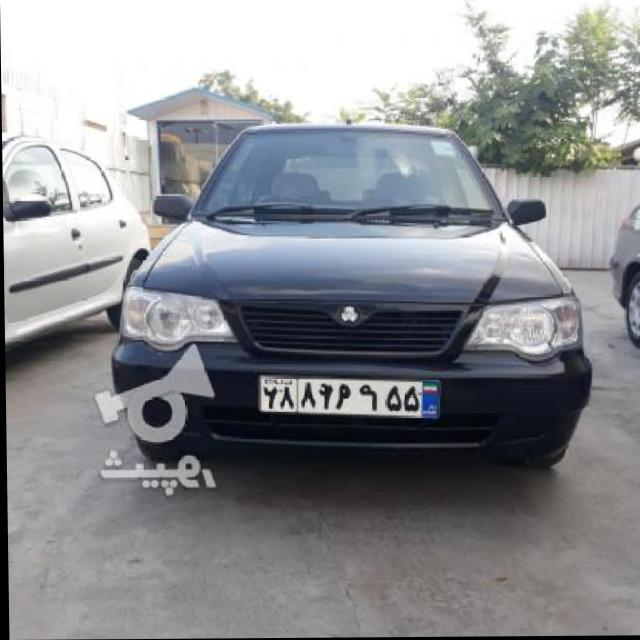licence: (263, 371, 445, 417)
